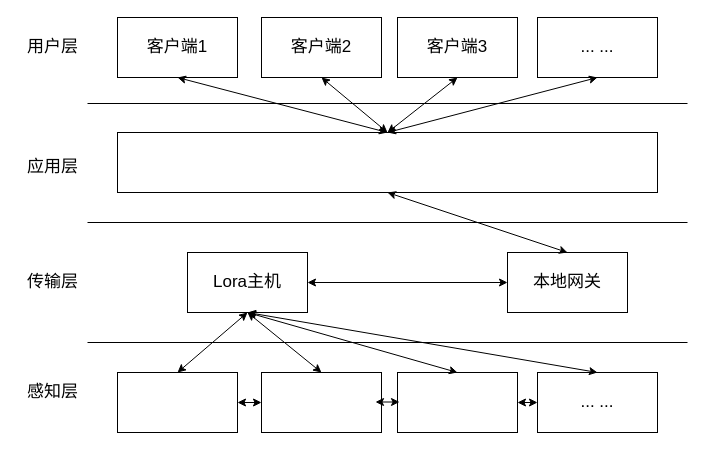
Some shapes in this 706 by 450 pixel diagram are drawn without their labels. Here are the shapes that lost their labels. From the top down, the centre of each, then its label:
(387,162): 远程服务器
(177,402): 传感器1
(321,402): 传感器2
(457,402): 传感器3
